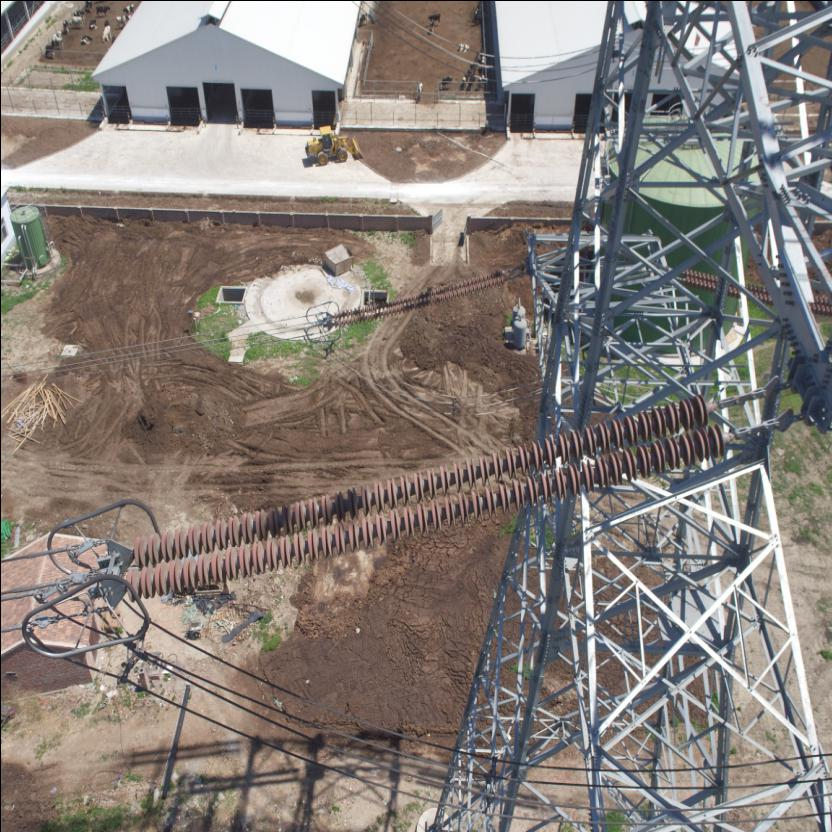insulator: (117, 388, 748, 606)
